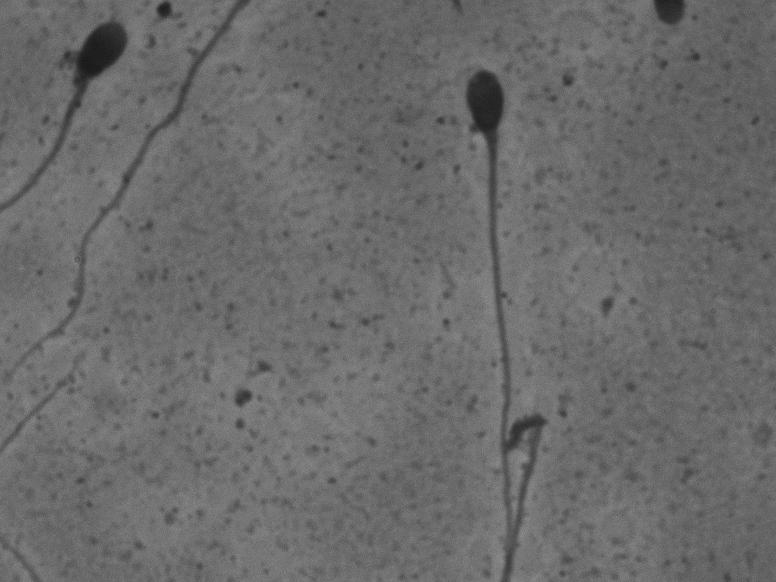Normal: (410, 33, 577, 563)
